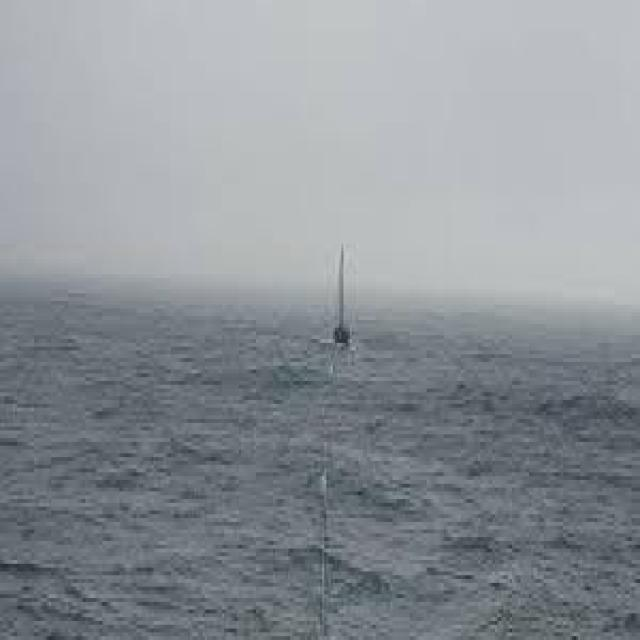sailboat: (332, 235, 359, 364)
